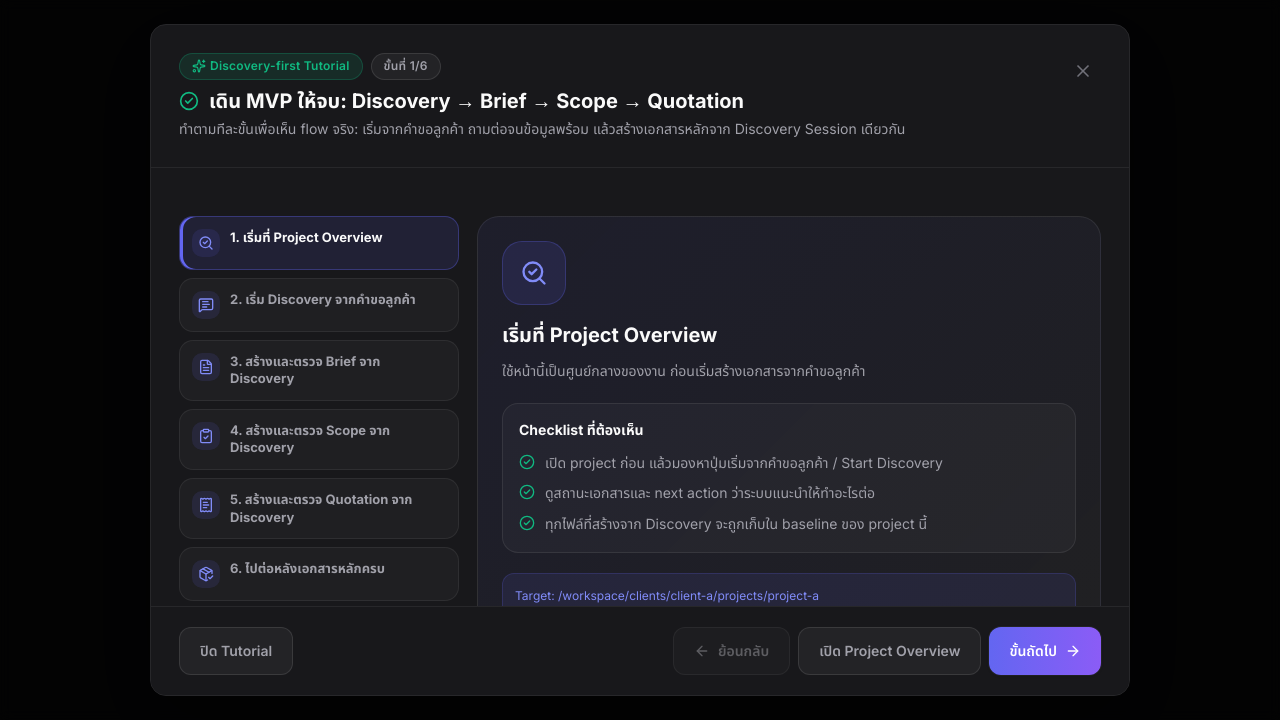
Scenario: DemoFlowGuideModal › shows the expected generated artifact paths in the checklist flow
Click the button "3. สร้างและตรวจ Brief จาก Discovery": (319, 370) [179,340,459,401]
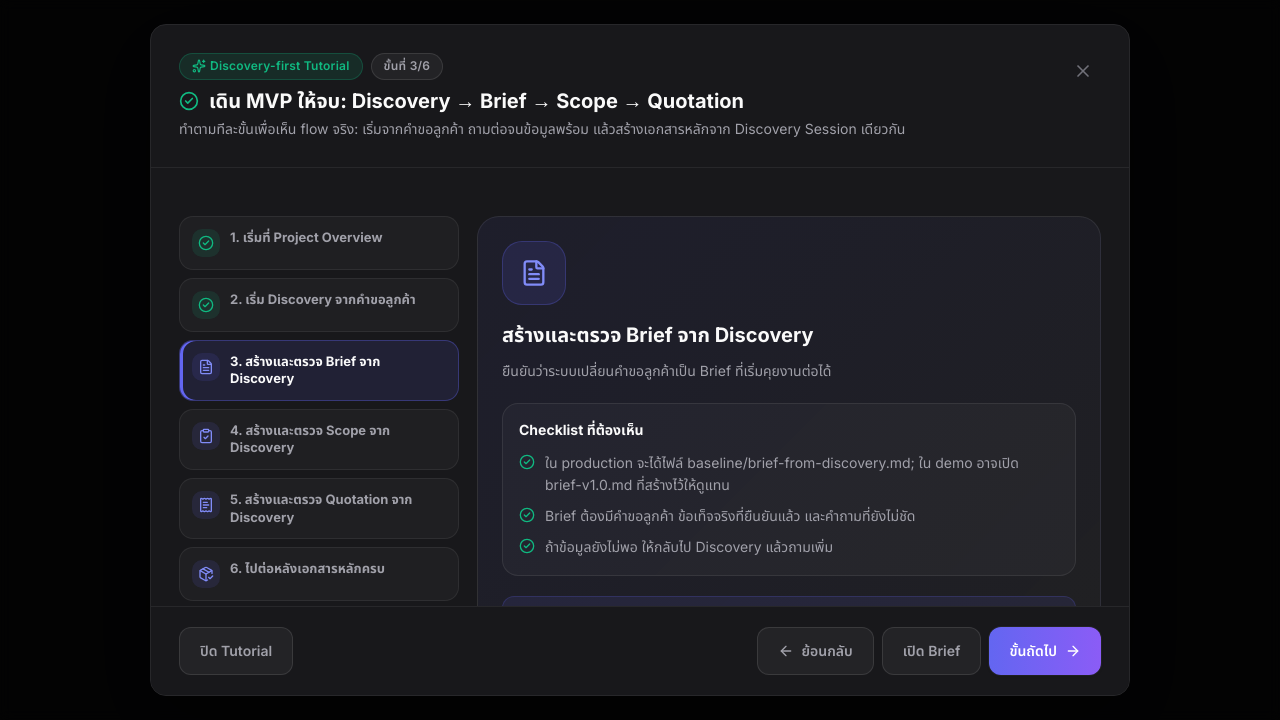
Expected: the text "baseline/brief-from-discovery.md" is shown, [545,454,1019,493]
Click the button "4. สร้างและตรวจ Scope จาก Discovery": (319, 439) [179,409,459,470]
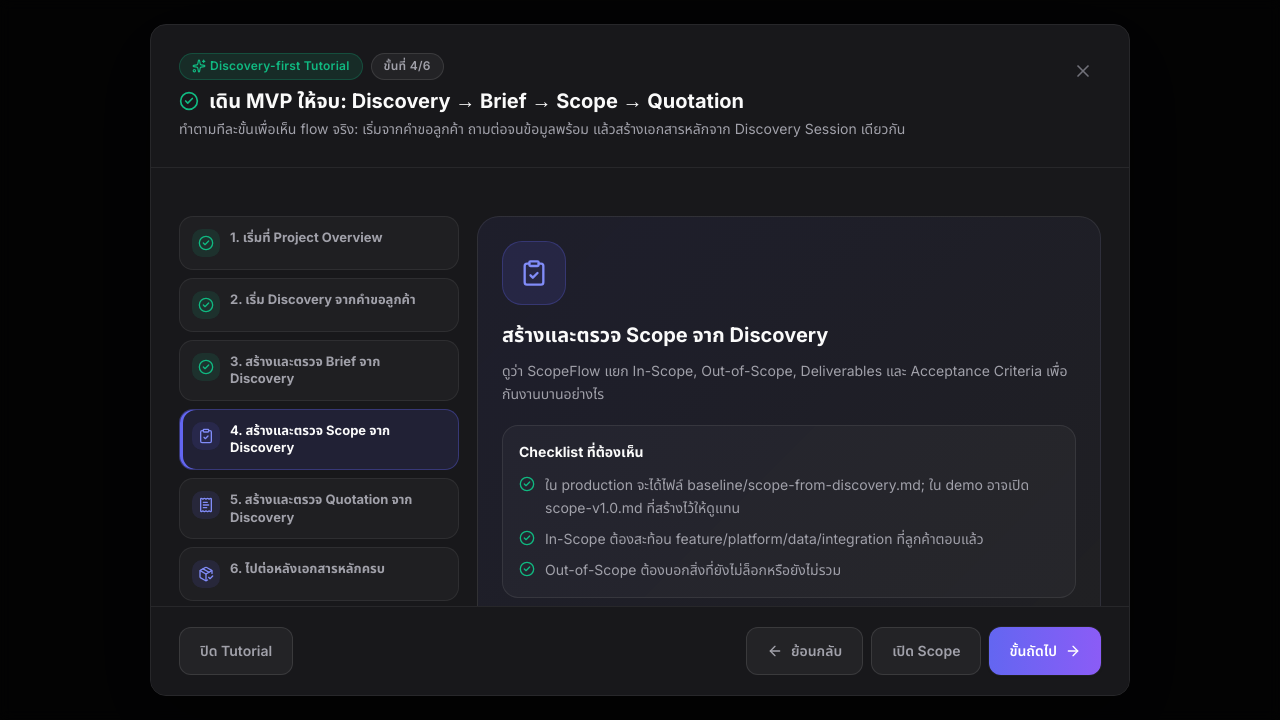
Expected: the text "baseline/scope-from-discovery.md" is shown, [545,476,1029,516]
Click the button "5. สร้างและตรวจ Quotation จาก Discovery": (319, 509) [179,478,459,539]
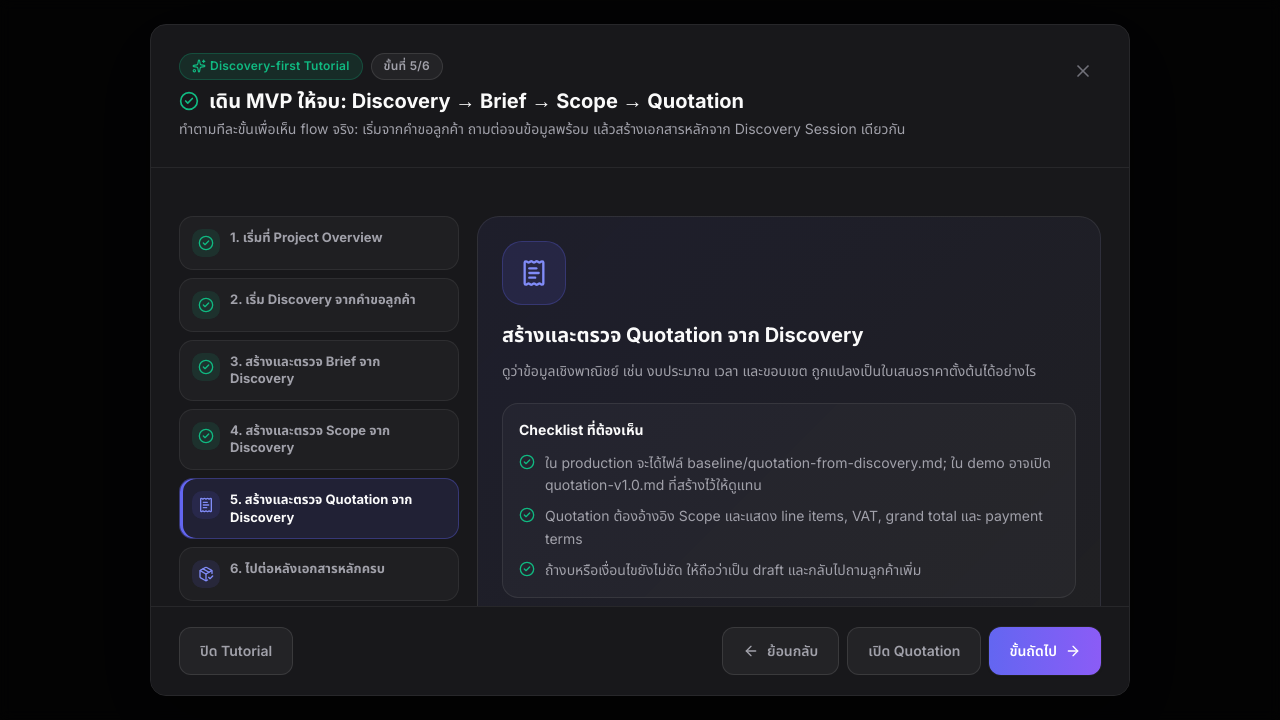
Expected: the text "baseline/quotation-from-discovery.md" is shown, [545,454,1051,493]
